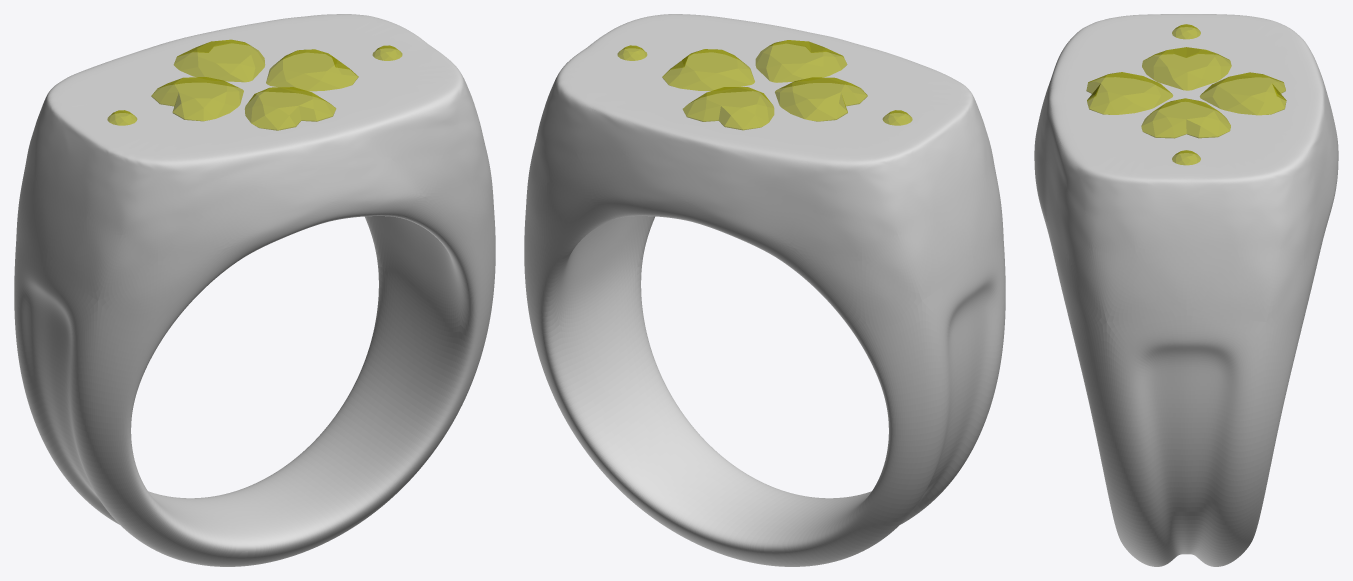
The model's file is 5StoneRing.glb.
The picture shows the model from 3 angles, left to right: view 1: azimuth 30°, elevation 25°; view 2: azimuth 150°, elevation 25°; view 3: azimuth 270°, elevation 25°; orthographic projection. The views are drawn at different scales.
Visible parts, largest first — view 1: Metal, Gem_r, Gem_t, Gem_b, Gem_l; view 2: Metal, Gem_r, Gem_t, Gem_b, Gem_l; view 3: Metal, Gem_r, Gem_b, Gem_t, Gem_l.
Boxes of the visible parts, bbox=[...] form: Metal: bbox=[14, 14, 495, 566]; Gem_r: bbox=[151, 77, 243, 121]; Gem_t: bbox=[245, 87, 336, 130]; Gem_b: bbox=[173, 39, 264, 82]; Gem_l: bbox=[266, 49, 358, 91]; Metal: bbox=[524, 14, 1005, 566]; Gem_r: bbox=[775, 77, 867, 121]; Gem_t: bbox=[755, 40, 847, 82]; Gem_b: bbox=[683, 87, 774, 130]; Gem_l: bbox=[662, 49, 754, 90]; Metal: bbox=[1034, 14, 1338, 566]; Gem_r: bbox=[1142, 47, 1231, 90]; Gem_b: bbox=[1200, 72, 1286, 115]; Gem_t: bbox=[1086, 72, 1172, 114]; Gem_l: bbox=[1141, 98, 1230, 138].
Size of the model in its own units: 19.04 by 20.56 by 12.24.
